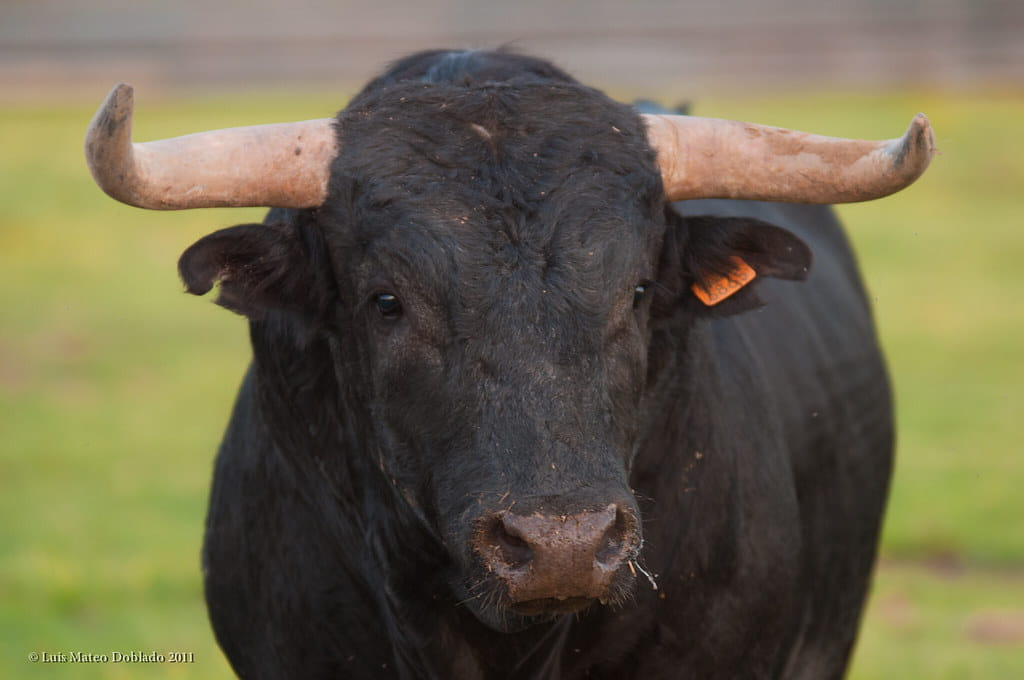bovino: (83, 49, 942, 680)
